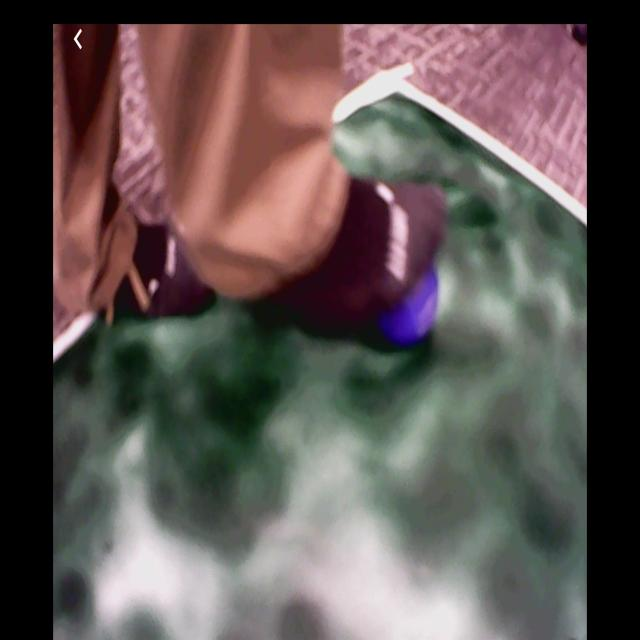ball: (385, 266, 440, 348)
